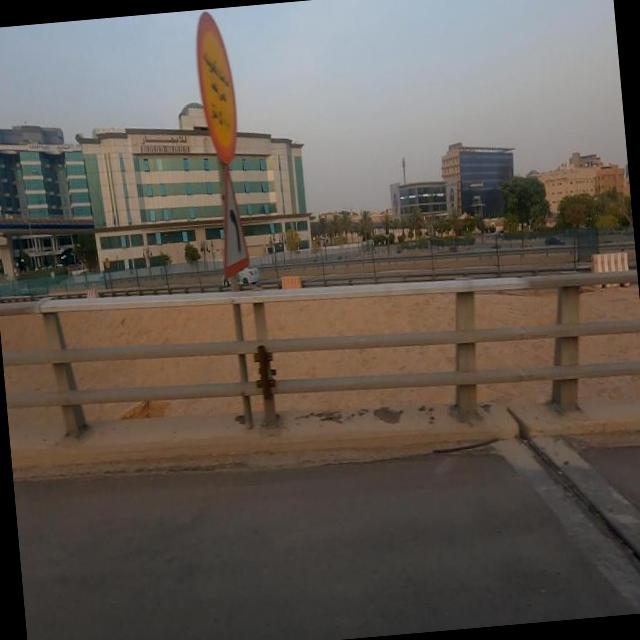debris: (123, 0, 334, 362)
